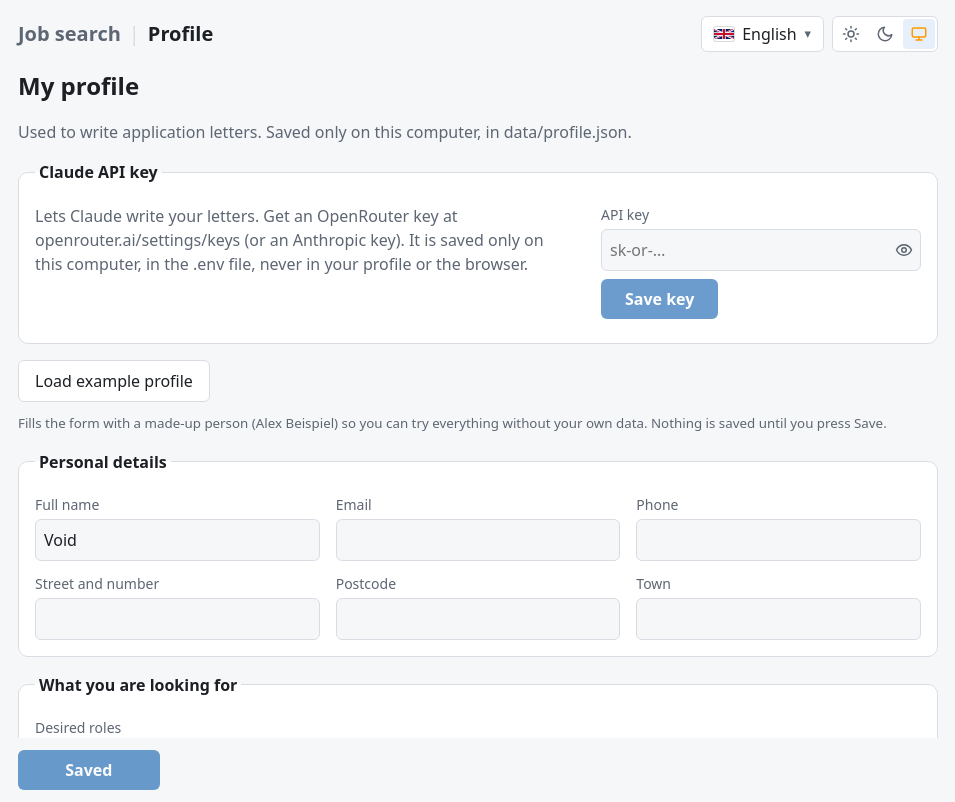
Test: profile page › loads the example after confirming, without saving
expect the field labelled "Full name" is shown: met, box [35,519,320,561]
Click the button "Load example profile".
click(114, 381)  # box [18,360,210,402]
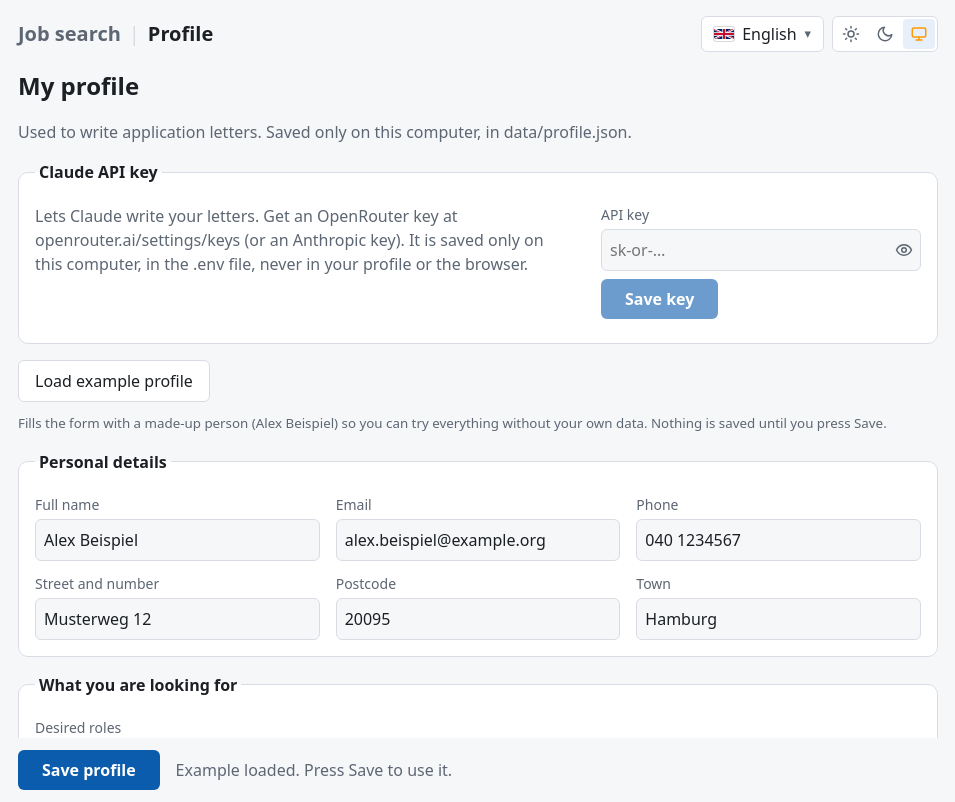
expect the field labelled "Full name" holds "Alex Beispiel": met, box [35,519,320,561]
expect the text "Example loaded. Press Save to use it." is shown: met, box [176,758,452,782]
